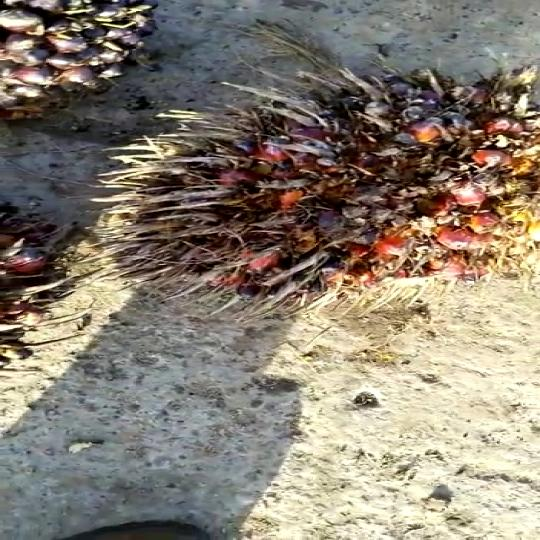terlalu masak: (99, 64, 540, 318)
